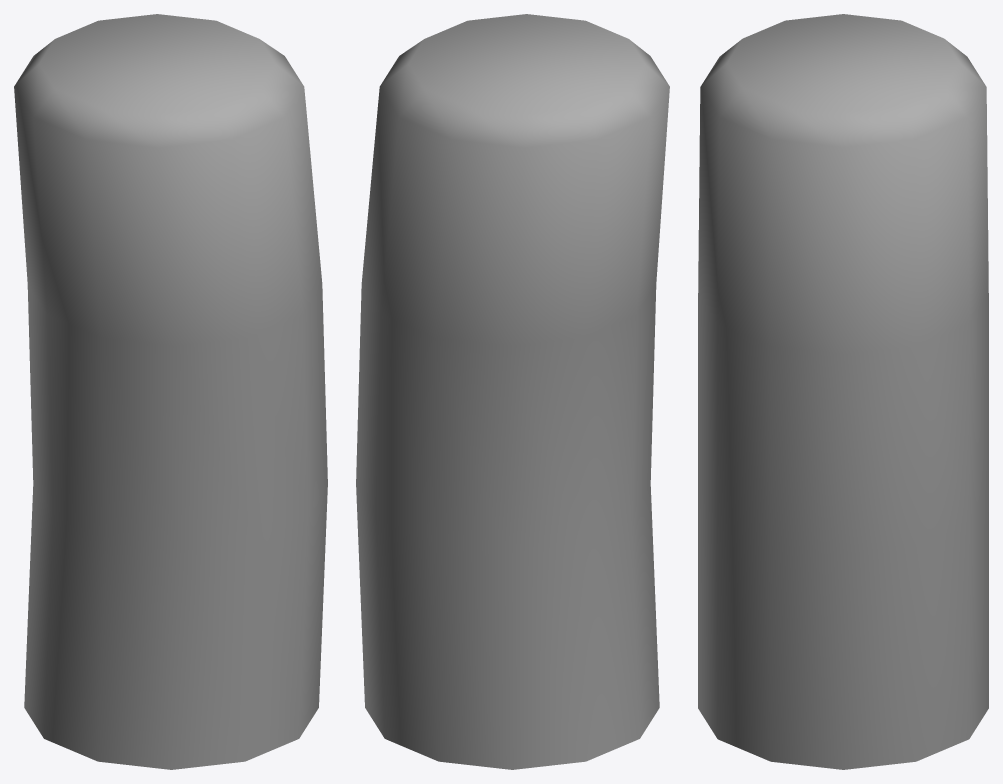
The model's file is GiantTrainer.fbx.
3 renders of one model, left to right at view 1: azimuth 30°, elevation 25°; view 2: azimuth 150°, elevation 25°; view 3: azimuth 270°, elevation 25°, orthographic.
Parts seen in each view (by area): view 1: GiantTrainer; view 2: GiantTrainer; view 3: GiantTrainer.
Boxes of the visible parts, bbox=[...] form: GiantTrainer: bbox=[14, 14, 327, 769]; GiantTrainer: bbox=[356, 14, 669, 769]; GiantTrainer: bbox=[698, 14, 988, 769].
Size of the model in its own units: 0.7468 by 1.68 by 0.6937.
